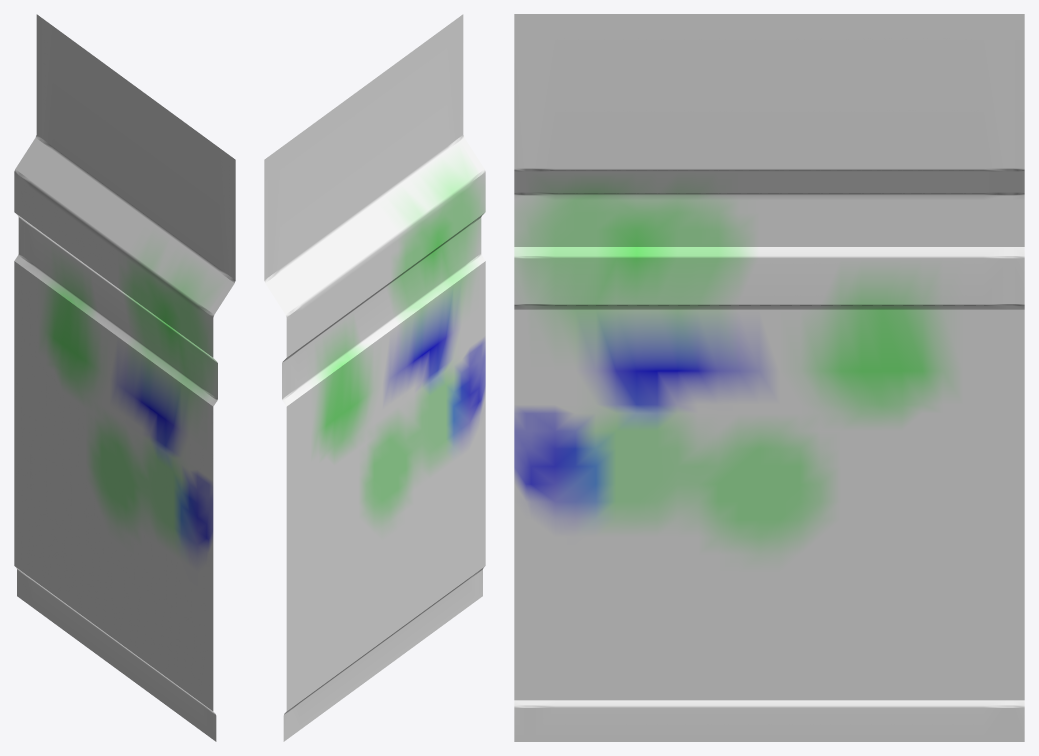
The picture shows the model from 3 angles, left to right: view 1: azimuth 30°, elevation 25°; view 2: azimuth 150°, elevation 25°; view 3: azimuth 270°, elevation 25°; orthographic projection. The views are drawn at different scales.
Visible parts, largest first — view 1: SM_Platform_Wall_Large_04_LOD0; view 2: SM_Platform_Wall_Large_04_LOD0; view 3: SM_Platform_Wall_Large_04_LOD0.
Part boxes in pixels (x1,y1,x2,y2): SM_Platform_Wall_Large_04_LOD0: (14,14,235,741); SM_Platform_Wall_Large_04_LOD0: (264,14,485,741); SM_Platform_Wall_Large_04_LOD0: (514,14,1024,741).
Bounding box in the file's own units: 32.32 × 500 × 800.
